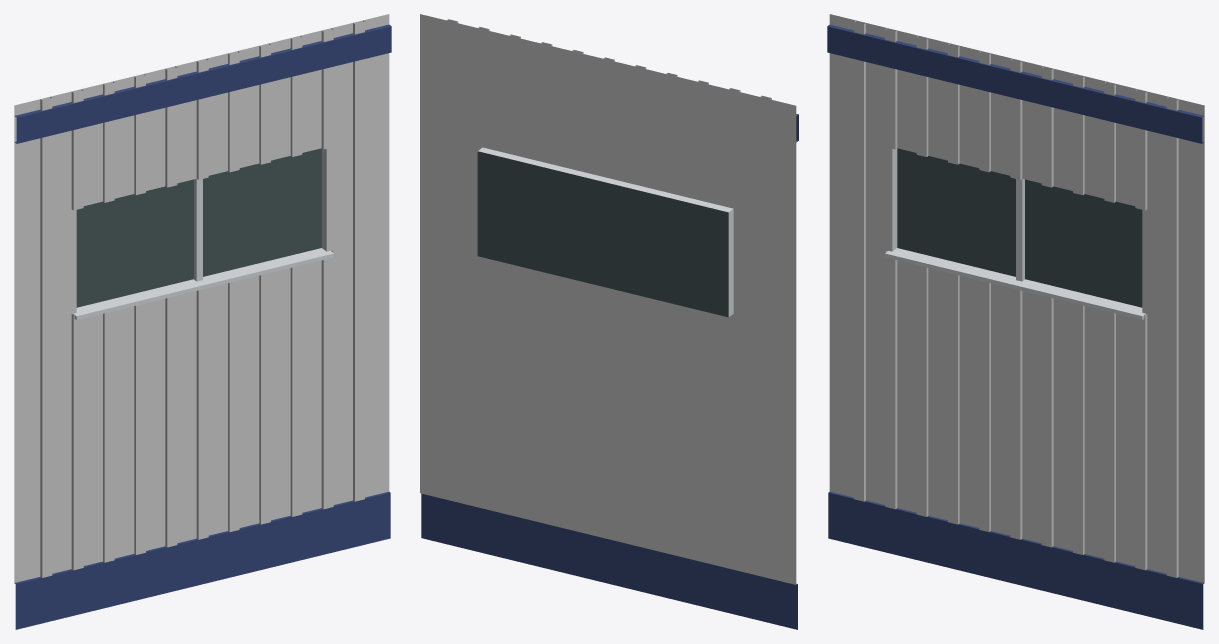
The model's file is base-w1_close.fbx.
The picture shows the model from 3 angles, left to right: view 1: azimuth 30°, elevation 25°; view 2: azimuth 150°, elevation 25°; view 3: azimuth 330°, elevation 25°; orthographic projection.
Parts seen in each view (by area): view 1: a2004/700/base-w1_close; view 2: a2004/700/base-w1_close; view 3: a2004/700/base-w1_close.
Boxes of the visible parts, x1=… form: a2004/700/base-w1_close: x1=14, y1=14, x2=391, y2=629; a2004/700/base-w1_close: x1=420, y1=14, x2=798, y2=629; a2004/700/base-w1_close: x1=827, y1=14, x2=1204, y2=629.
Size of the model in its own units: 3 by 4 by 0.12.
